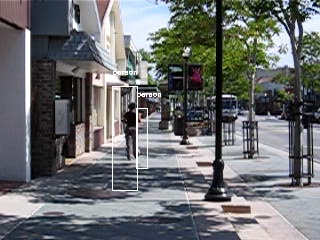person: (125, 104, 144, 161), (124, 104, 143, 161), (126, 104, 145, 161), (125, 103, 144, 160), (125, 105, 144, 162)
target_negative: (24, 51, 203, 169), (126, 1, 209, 172), (81, 35, 140, 101), (221, 194, 319, 210), (289, 143, 311, 209), (315, 137, 319, 204)
